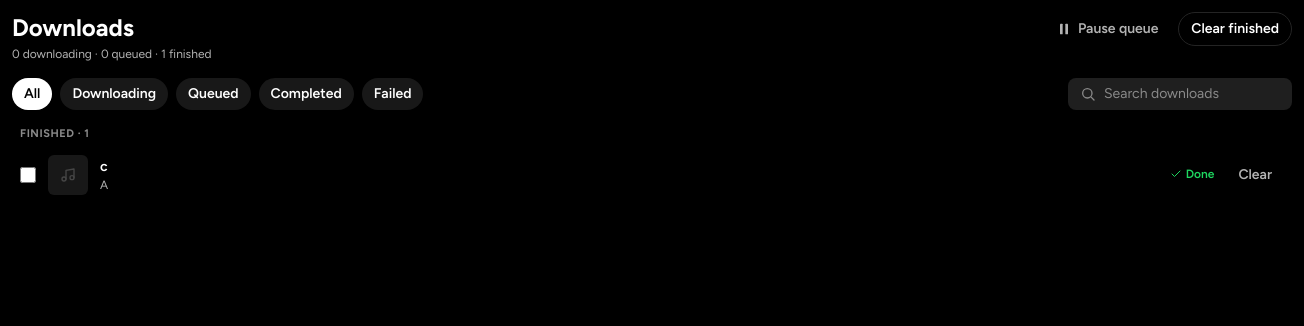
Downloads page › clearFinished clears selection (bulk bar disappears)
The image size is (1304, 326).
Note: Select the completed row so the bulk bar shows.
Step 1. Click the checkbox named "Select c" → (28, 174), box [20, 166, 36, 182]
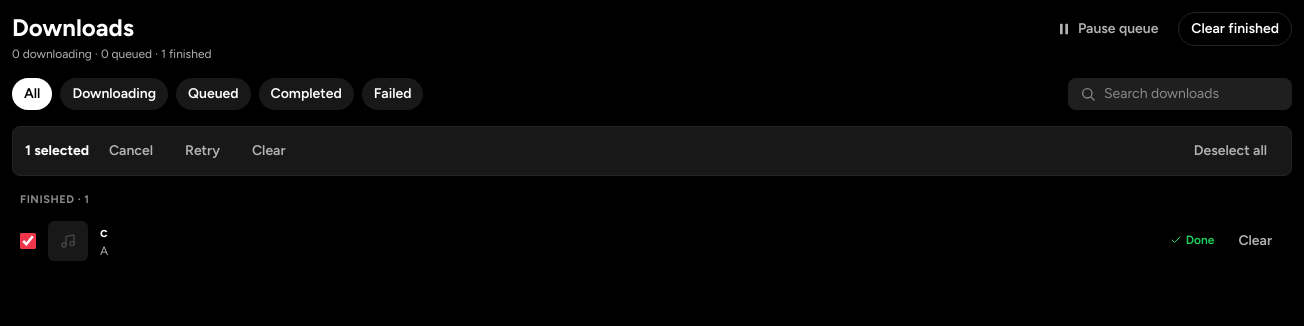
Result: the text "1 selected" is shown at [25, 141, 89, 161]
Note: Click "Clear finished" — the bulk bar must disappear.
Step 2. Click the button "Clear finished" → (1235, 29), box [1178, 12, 1292, 46]
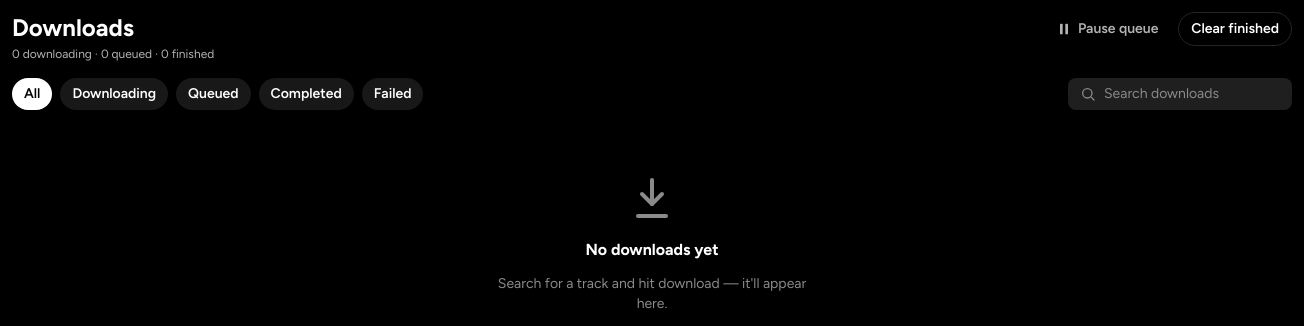
Result: the text "selected" is gone
